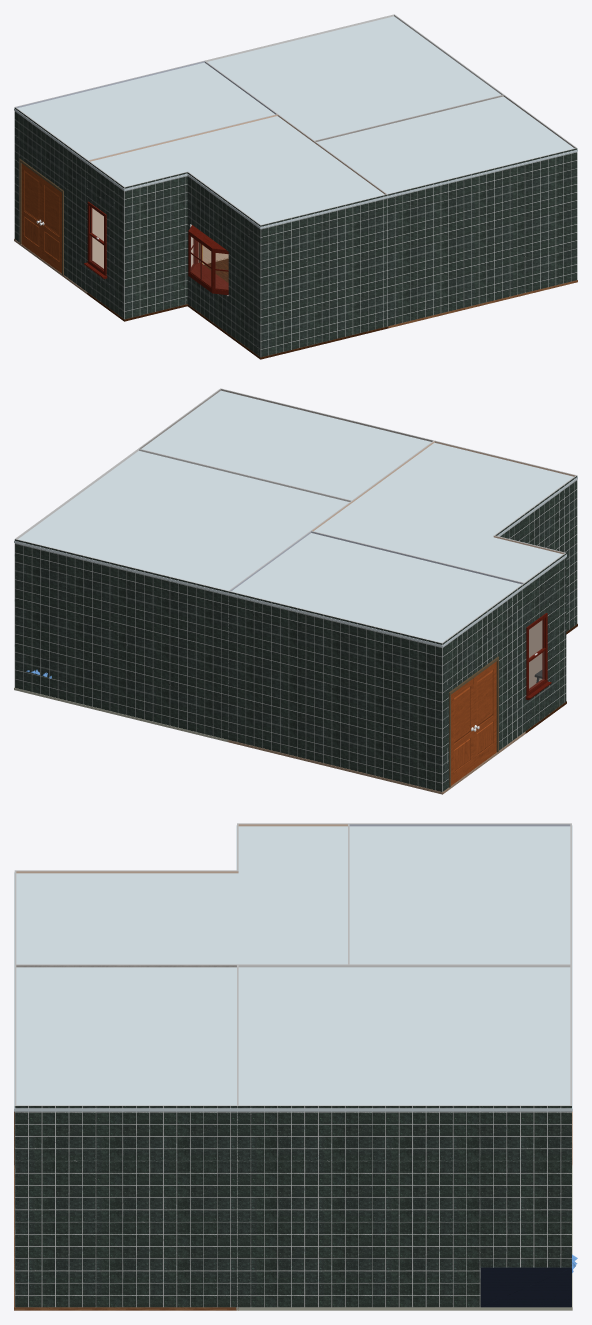
Rendered from ProcTHOR-Train-77.glb.
The picture shows the model from 3 angles, top to bottom: view 1: azimuth 30°, elevation 25°; view 2: azimuth 150°, elevation 25°; view 3: azimuth 270°, elevation 25°; orthographic projection. The views are drawn at different scales.
Visible parts, largest first — view 1: WallInside#wall|exterior|0.00|8.25|4.95|8.25, Ceiling#room|4|c, WallInside#wall|exterior|4.95|8.25|8.25|8.25, Ceiling#room|6|c, Ceiling#room|5|c, Ceiling#room|7|c, WallInside#wall|exterior|8.25|4.95|9.90|4.95, WallInside#wall|exterior|8.25|4.95|8.25|8.25, WallInside#wall|exterior|9.90|0.00|9.90|3.30, WallInside#wall|exterior|9.90|3.30|9.90|4.95, Doorway_Door_4b, Window_Bay_2 (+7 smaller); view 2: WallInside#wall|exterior|4.95|0.00|9.90|0.00, WallInside#wall|exterior|0.00|0.00|4.95|0.00, Ceiling#room|4|c, Ceiling#room|6|c, Ceiling#room|7|c, Ceiling#room|5|c, WallInside#wall|exterior|9.90|0.00|9.90|3.30, WallInside#wall|exterior|9.90|3.30|9.90|4.95, WallInside#wall|exterior|8.25|4.95|8.25|8.25, Doorway_Door_4a, Doorway_Door_4b, Window_Hung_32x60 (+7 smaller); view 3: WallInside#wall|exterior|0.00|0.00|0.00|4.95, Ceiling#room|4|c, WallInside#wall|exterior|0.00|4.95|0.00|8.25, Ceiling#room|6|c, Ceiling#room|5|c, Ceiling#room|7|c, Bed_28, Floor#room|4|f, Floor#room|5|f, WallInside#wall|4|4.95|0.00|4.95|3.30, WallInside#wall|5|4.95|4.95|4.95|8.25, WallInside#wall|6|8.25|4.95|8.25|8.25 (+1 smaller).
Part boxes in pixels (left/top/right/bottom): WallInside#wall|exterior|0.00|8.25|4.95|8.25: left=387, top=148, right=577, bottom=326; Ceiling#room|4|c: left=205, top=16, right=502, bottom=142; WallInside#wall|exterior|4.95|8.25|8.25|8.25: left=260, top=194, right=386, bottom=357; Ceiling#room|6|c: left=87, top=116, right=388, bottom=228; Ceiling#room|5|c: left=316, top=96, right=577, bottom=197; Ceiling#room|7|c: left=14, top=62, right=275, bottom=163; WallInside#wall|exterior|8.25|4.95|9.90|4.95: left=124, top=172, right=187, bottom=319; WallInside#wall|exterior|8.25|4.95|8.25|8.25: left=187, top=171, right=260, bottom=357; WallInside#wall|exterior|9.90|0.00|9.90|3.30: left=14, top=107, right=87, bottom=292; WallInside#wall|exterior|9.90|3.30|9.90|4.95: left=87, top=160, right=124, bottom=319; Doorway_Door_4b: left=21, top=163, right=41, bottom=258; Window_Bay_2: left=188, top=225, right=228, bottom=295; WallInside#wall|exterior|4.95|0.00|9.90|0.00: left=228, top=591, right=442, bottom=791; WallInside#wall|exterior|0.00|0.00|4.95|0.00: left=14, top=539, right=228, bottom=739; Ceiling#room|4|c: left=14, top=451, right=348, bottom=595; Ceiling#room|6|c: left=314, top=443, right=577, bottom=586; Ceiling#room|7|c: left=228, top=533, right=525, bottom=647; Ceiling#room|5|c: left=140, top=390, right=433, bottom=502; WallInside#wall|exterior|9.90|0.00|9.90|3.30: left=442, top=583, right=525, bottom=791; WallInside#wall|exterior|9.90|3.30|9.90|4.95: left=525, top=553, right=566, bottom=731; WallInside#wall|exterior|8.25|4.95|8.25|8.25: left=494, top=475, right=577, bottom=631; Doorway_Door_4a: left=473, top=661, right=496, bottom=768; Doorway_Door_4b: left=451, top=678, right=473, bottom=785; Window_Hung_32x60: left=525, top=613, right=551, bottom=700; WallInside#wall|exterior|0.00|0.00|0.00|4.95: left=237, top=1105, right=571, bottom=1307; Ceiling#room|4|c: left=236, top=966, right=572, bottom=1111; WallInside#wall|exterior|0.00|4.95|0.00|8.25: left=14, top=1105, right=238, bottom=1307; Ceiling#room|6|c: left=14, top=825, right=350, bottom=967; Ceiling#room|5|c: left=14, top=966, right=238, bottom=1111; Ceiling#room|7|c: left=347, top=825, right=572, bottom=967; Bed_28: left=480, top=1254, right=577, bottom=1307; Floor#room|4|f: left=236, top=1165, right=572, bottom=1310; Floor#room|5|f: left=14, top=1165, right=238, bottom=1310; WallInside#wall|4|4.95|0.00|4.95|3.30: left=348, top=964, right=571, bottom=967; WallInside#wall|5|4.95|4.95|4.95|8.25: left=15, top=964, right=237, bottom=967; WallInside#wall|6|8.25|4.95|8.25|8.25: left=16, top=871, right=238, bottom=873.
Size of what is drawn, in the model's own units: 10.04 by 3.34 by 8.37.
Materials: 256 (103 with a texture image).
